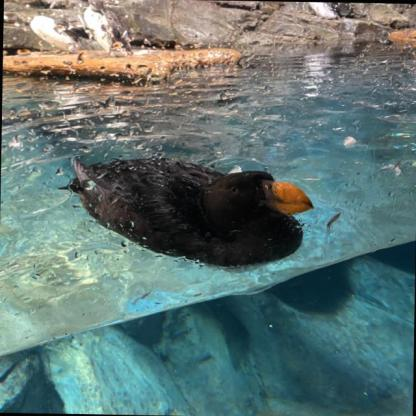puffin: (68, 157, 314, 272), (84, 0, 134, 57), (31, 16, 81, 54)
